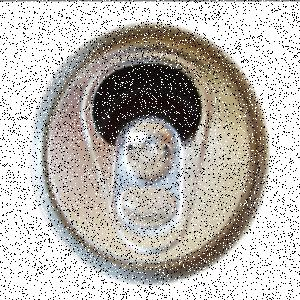Can: (23, 18, 273, 289)
